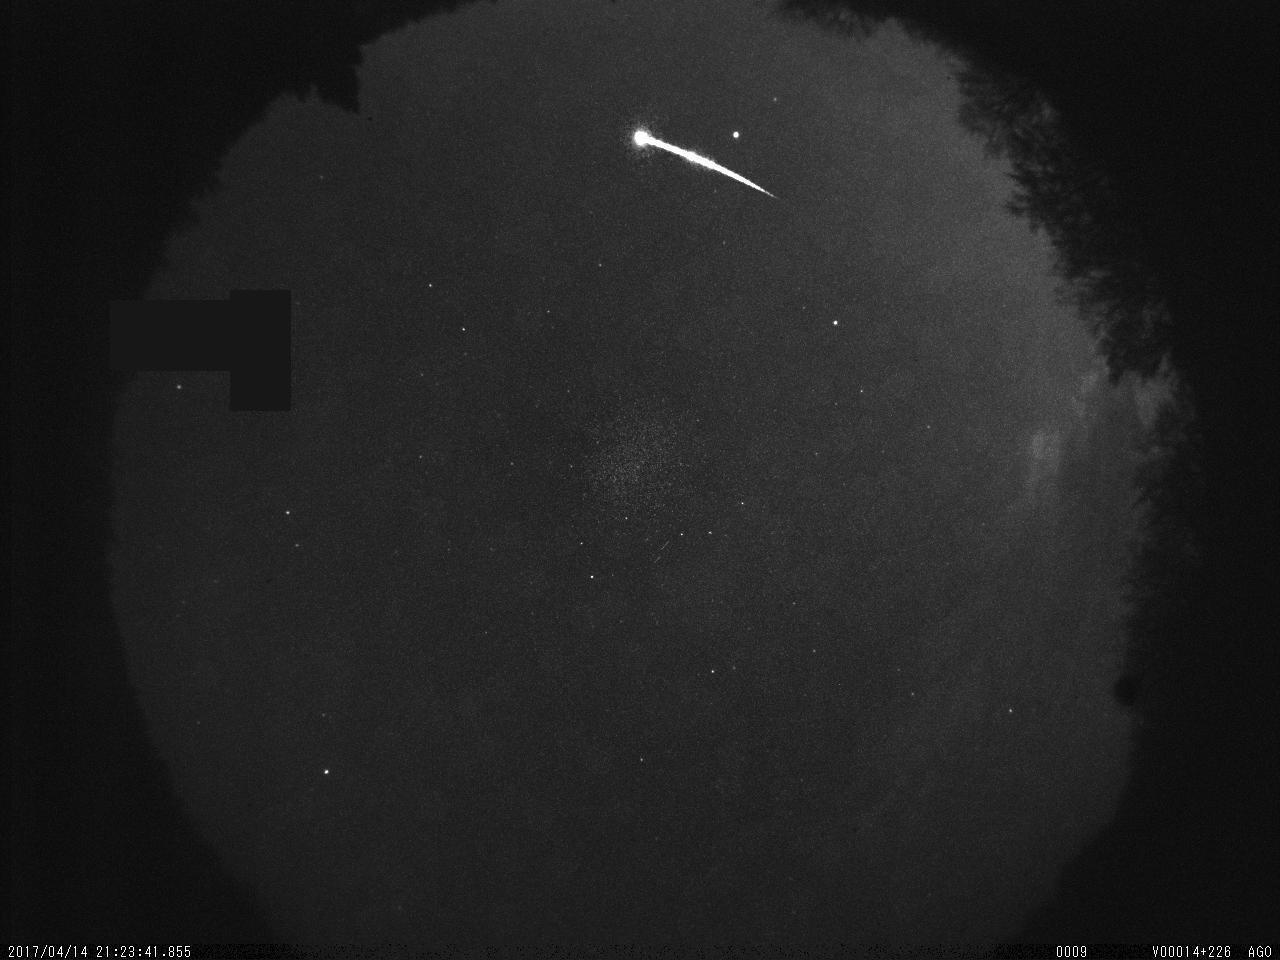Meteor: (632, 120, 788, 210)
